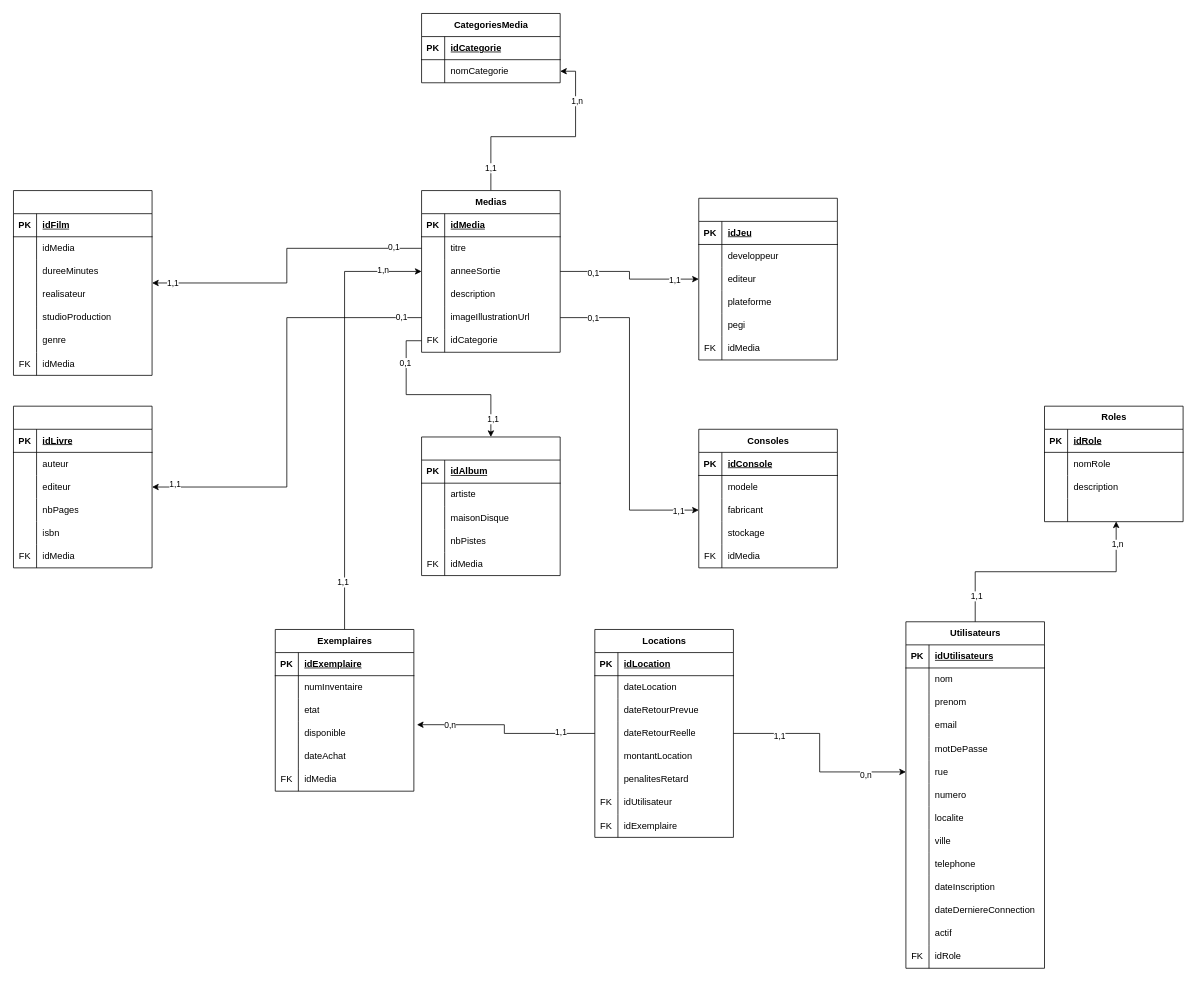
Image size: 1197x982. Some labels were removed from this diagram. Each missing label, with the box of its shape:
AlbumsMusique: (421, 436, 560, 576)
Films: (13, 190, 152, 375)
JeuxVideo: (698, 198, 837, 360)
Livres: (13, 405, 152, 568)
